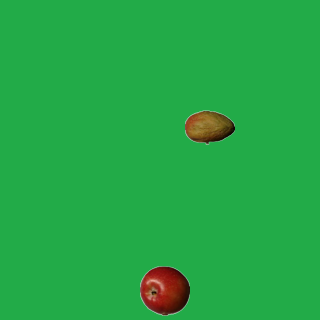Apple Braeburn: (139, 265, 189, 315)
Papaya: (184, 102, 234, 152)
